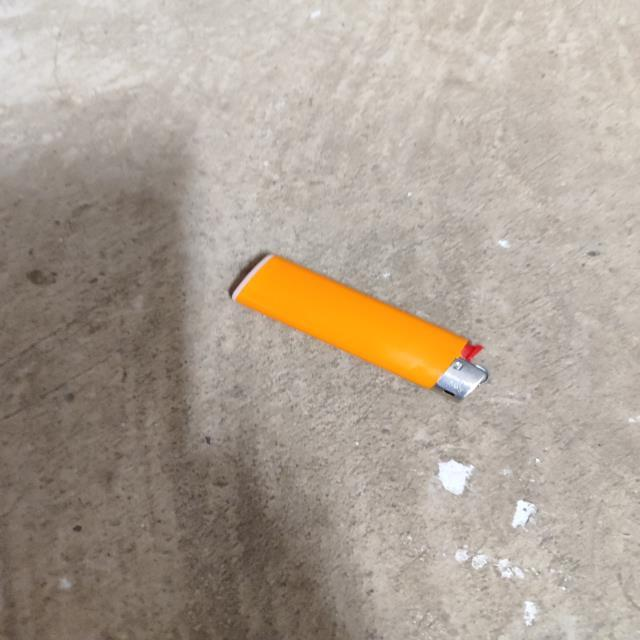lighter: (229, 254, 487, 398)
